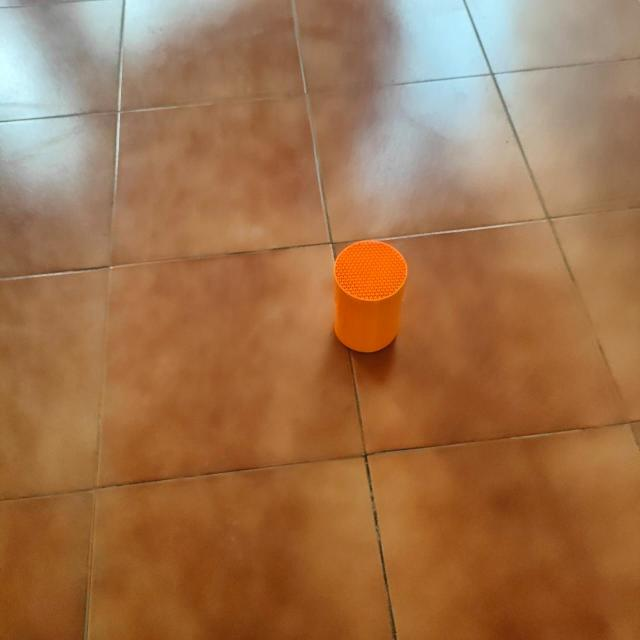Cylinder: (332, 238, 408, 353)
